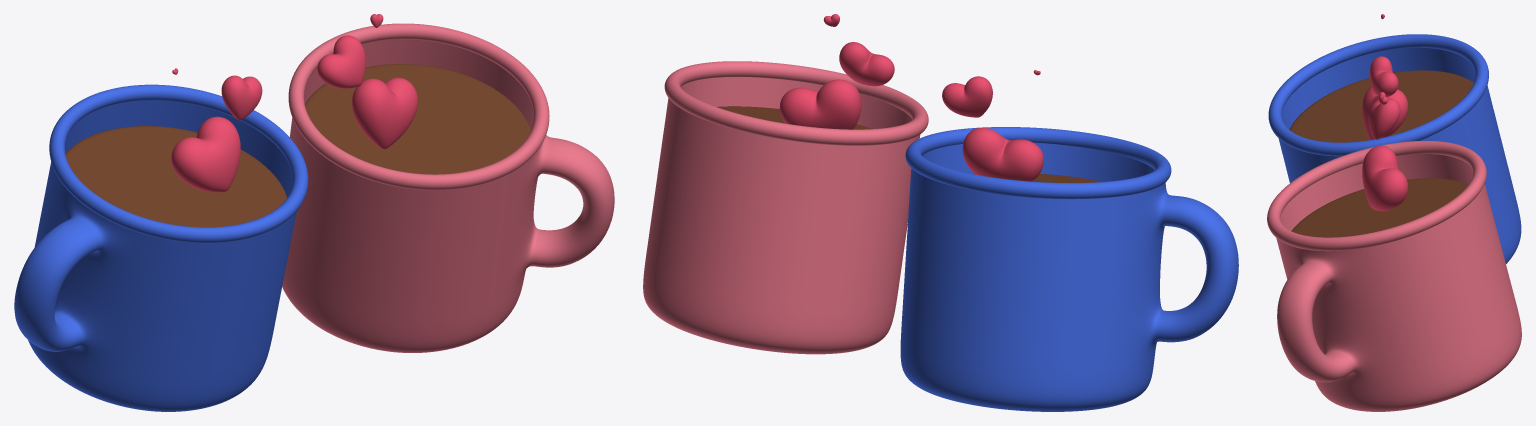
Rendered from coffee-date-3d-animated-icon-1652114997500.glb.
3 views of the same model, side by side, from view 1: azimuth 30°, elevation 25°; view 2: azimuth 150°, elevation 25°; view 3: azimuth 270°, elevation 25° (orthographic). The views are drawn at different scales.
Parts seen in each view (by area): view 1: Mug 2, Mug 1, cofee 2, cofee 1, heart.004, heart.001, heart.002, heart.005; view 2: Mug 1, Mug 2, heart.004, heart.001, heart.002, heart.005, cofee 2; view 3: Mug 2, Mug 1, cofee 1, cofee 2, heart.001, heart.002, heart.005, heart.004.
Boxes of the visible parts, x1,y1,x2,y2 form: Mug 2: (282, 23, 614, 352); Mug 1: (14, 84, 308, 411); cofee 2: (304, 64, 530, 174); cofee 1: (65, 126, 287, 227); heart.004: (171, 116, 240, 192); heart.001: (352, 77, 417, 149); heart.002: (317, 35, 365, 88); heart.005: (221, 75, 262, 120); Mug 1: (900, 127, 1238, 411); Mug 2: (643, 61, 928, 354); heart.004: (962, 127, 1043, 181); heart.001: (779, 79, 861, 129); heart.002: (839, 42, 894, 86); heart.005: (942, 76, 992, 117); cofee 2: (717, 106, 872, 129); Mug 2: (1267, 140, 1521, 411); Mug 1: (1268, 34, 1521, 263); cofee 1: (1289, 70, 1473, 142); cofee 2: (1291, 178, 1468, 237); heart.001: (1362, 145, 1408, 211); heart.002: (1368, 98, 1400, 139); heart.005: (1370, 56, 1398, 97); heart.004: (1362, 86, 1408, 140).
Bounding box in the file's own units: 2.99 × 1.63 × 1.36.
